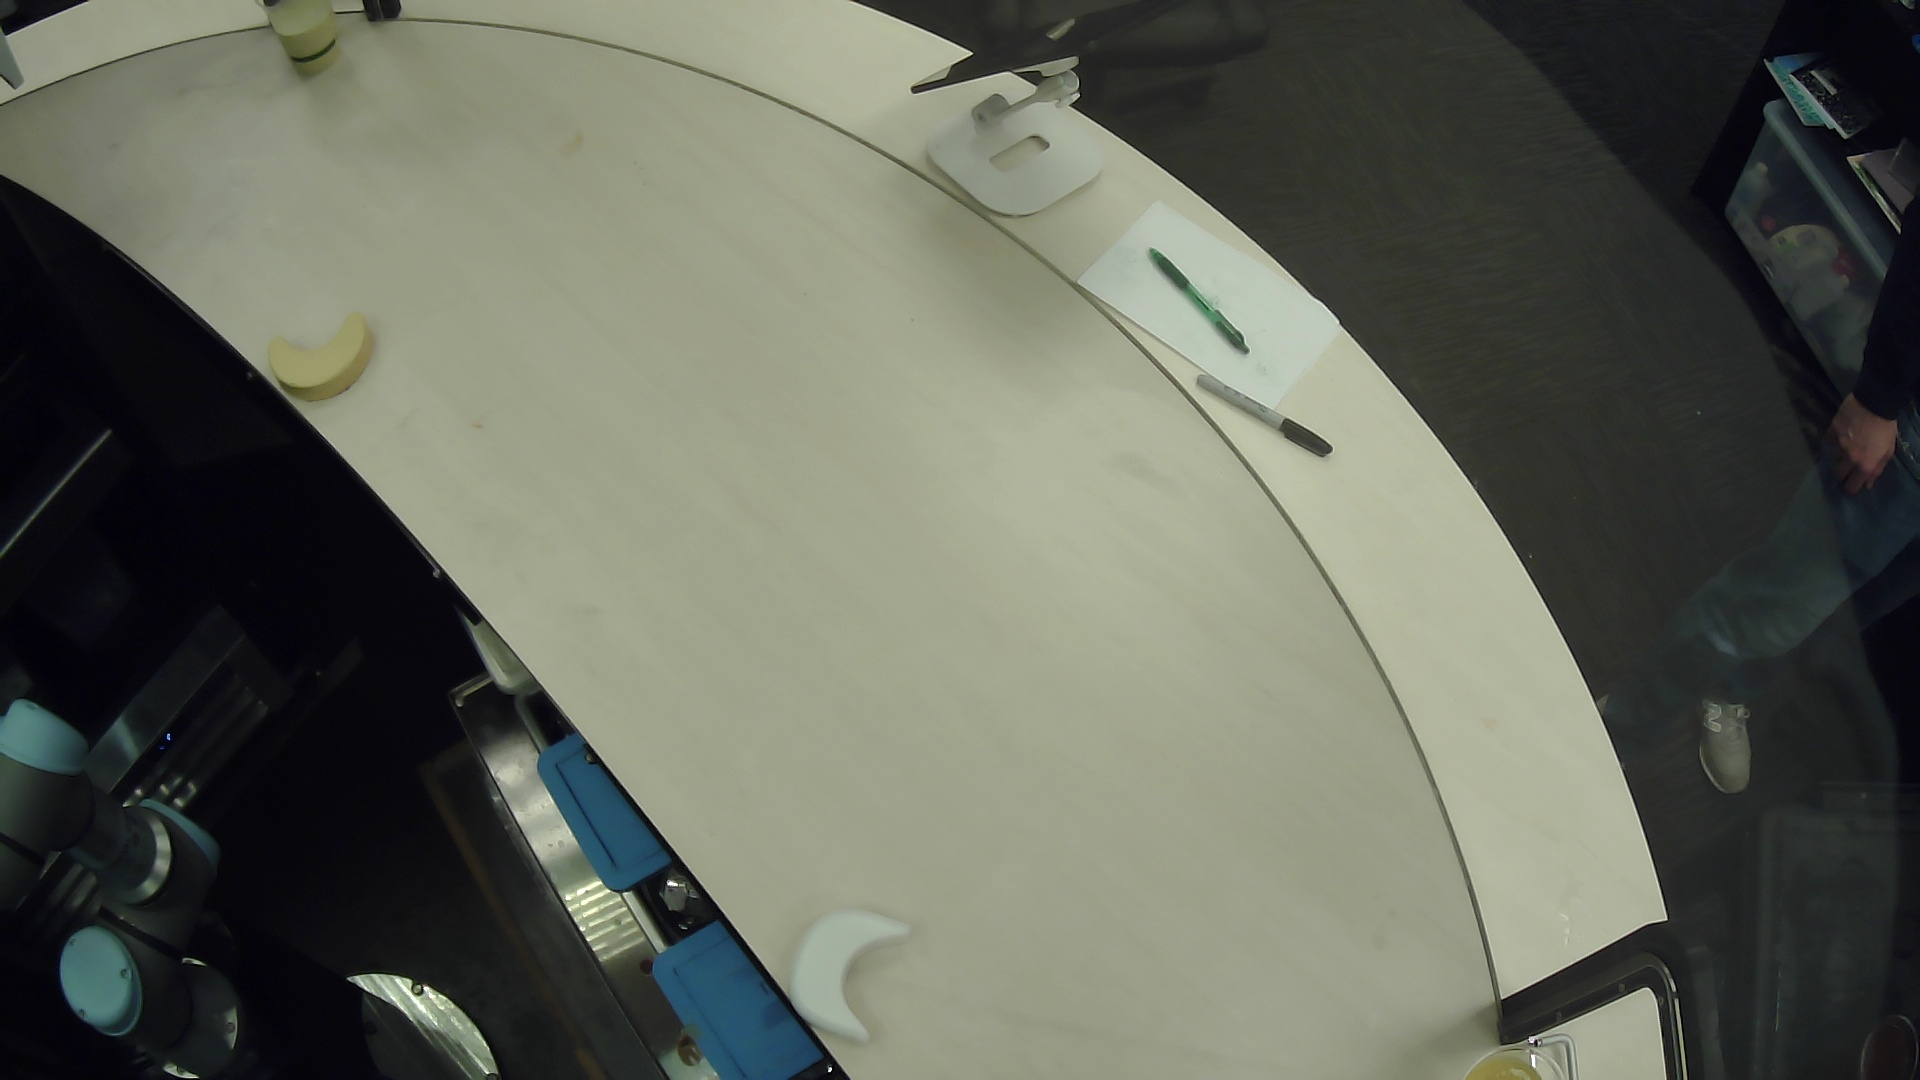Deliver: (758, 882, 932, 1058), (258, 305, 405, 405)
Full_cup: (1422, 1004, 1623, 1080), (247, 1, 375, 100)
